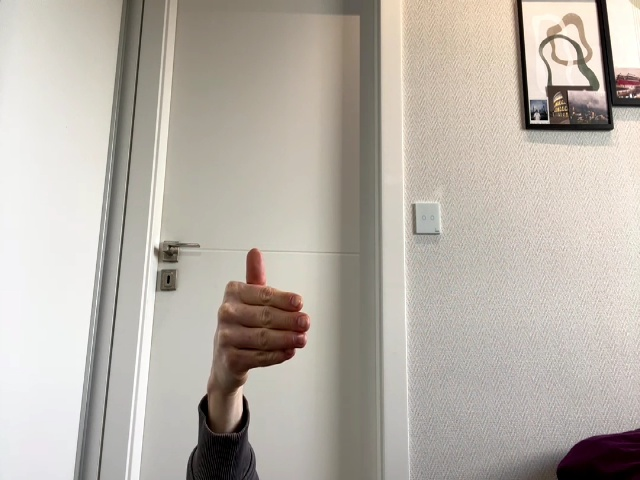M: (217, 247, 309, 377)
